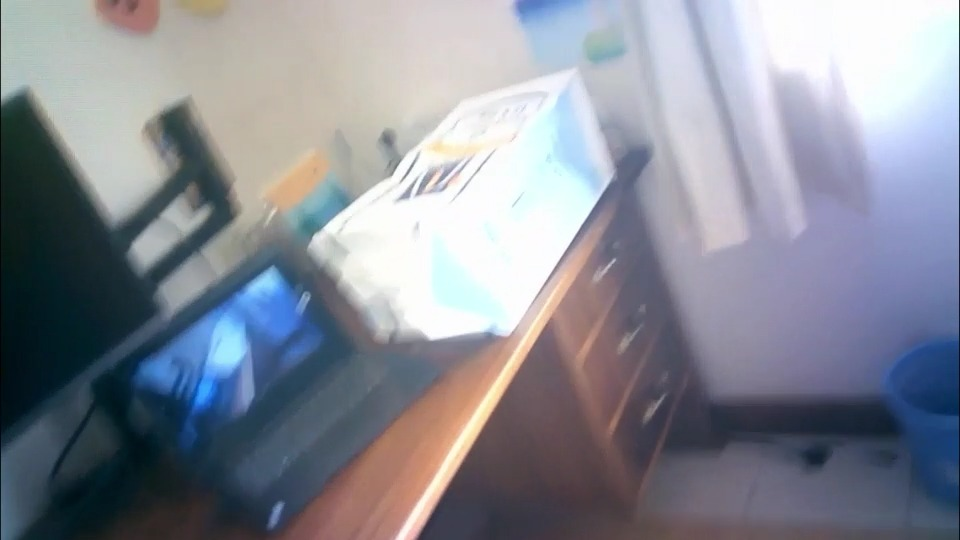wheat_flour_blue_label: (303, 72, 614, 331)
